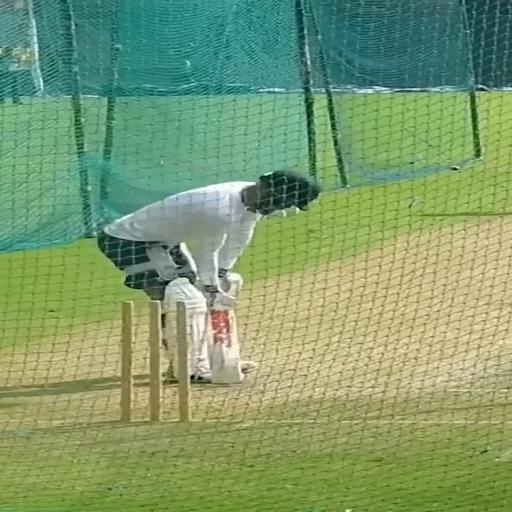Cricket bat: (209, 306, 242, 384)
